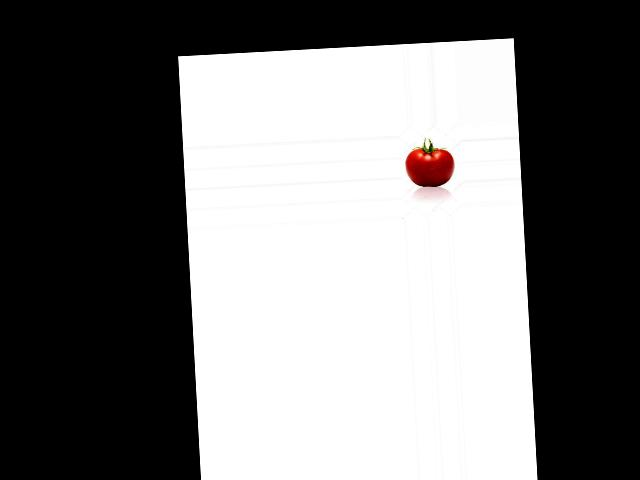tomato: (404, 147, 456, 187)
